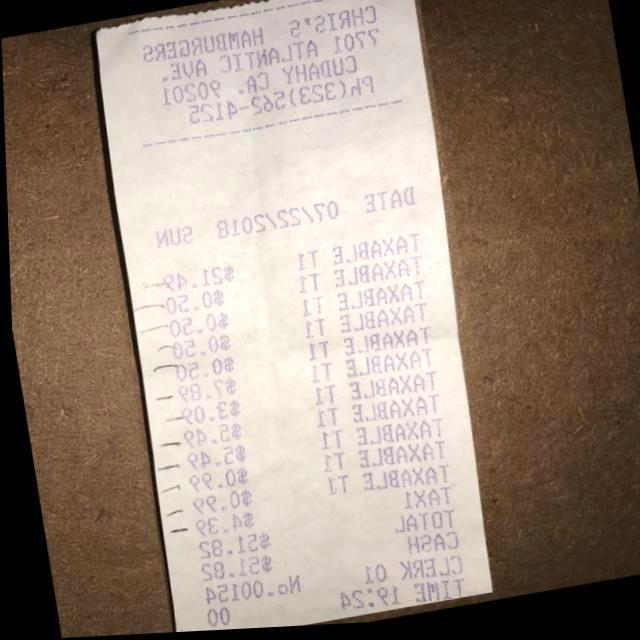Paper: (72, 0, 508, 636)
